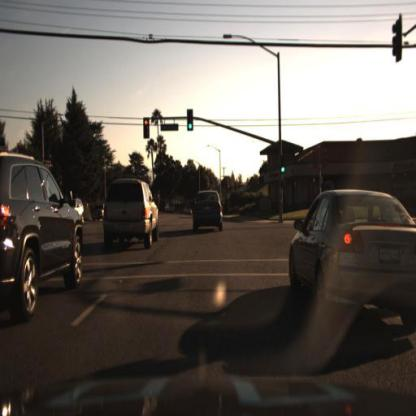car: (278, 172, 416, 326), (285, 188, 416, 331), (2, 136, 86, 323), (92, 179, 165, 254), (183, 182, 227, 237)
trafficLight-Green: (186, 109, 195, 132), (280, 159, 288, 179)
trafficLight-RedLeft: (142, 117, 152, 138)
